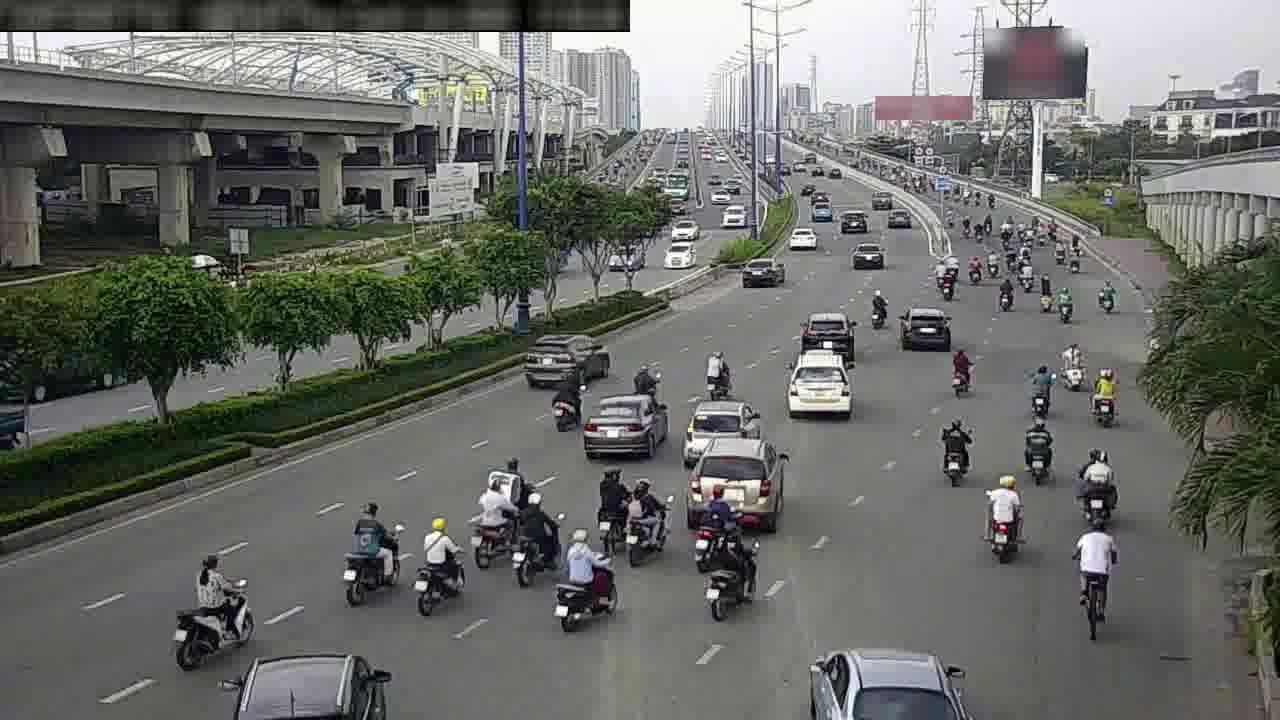container: (686, 434, 786, 531), (525, 330, 611, 391), (585, 395, 667, 457), (686, 400, 757, 455), (788, 349, 849, 413), (803, 311, 855, 367), (900, 304, 951, 347), (741, 258, 784, 288), (838, 210, 873, 238), (854, 242, 883, 267), (791, 228, 813, 248)
motorbike: (174, 549, 257, 672), (546, 526, 623, 635), (338, 499, 402, 609), (704, 521, 761, 623), (507, 488, 564, 584), (1067, 516, 1113, 631), (412, 515, 461, 616), (470, 477, 519, 574), (622, 477, 671, 566), (1075, 445, 1124, 531), (695, 483, 738, 571), (591, 463, 632, 552), (986, 471, 1025, 564), (1017, 410, 1056, 488), (935, 415, 974, 490), (1023, 363, 1059, 423), (550, 372, 584, 432), (1088, 367, 1119, 424), (705, 349, 733, 402), (1058, 341, 1088, 388), (950, 349, 974, 398), (628, 364, 661, 398), (869, 287, 889, 332), (1055, 284, 1076, 324), (938, 268, 957, 303), (967, 253, 985, 288), (998, 277, 1016, 311), (1098, 279, 1116, 312), (985, 247, 998, 276)
